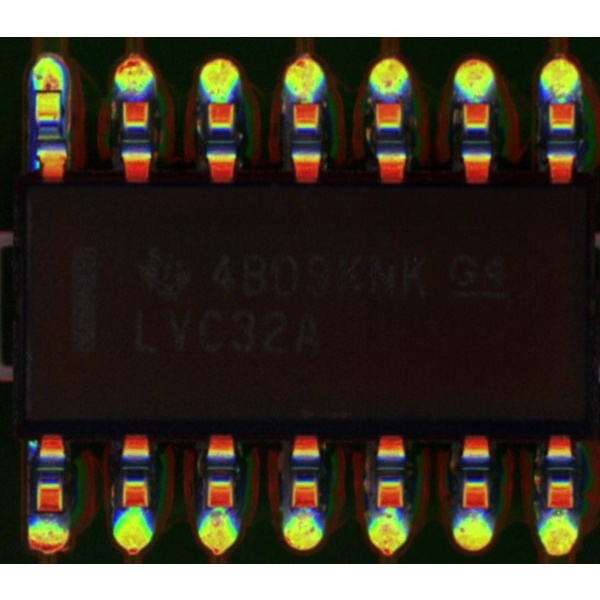Bad_podu: (39, 71, 59, 103)
